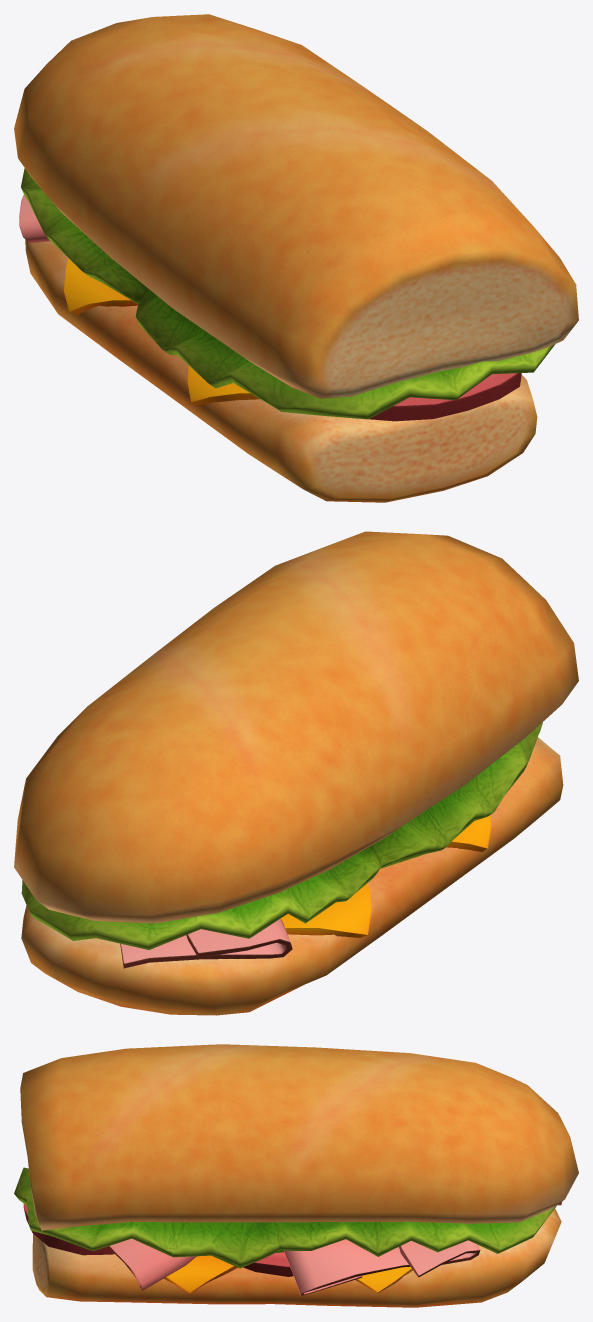
Rendered from SubmarineSandwich.fbx.
3 views of the same model, one above another, from view 1: azimuth 30°, elevation 25°; view 2: azimuth 150°, elevation 25°; view 3: azimuth 270°, elevation 25° (orthographic). The views are drawn at different scales.
Visible parts, largest first — view 1: SubmarineSandwich; view 2: SubmarineSandwich; view 3: SubmarineSandwich.
Part boxes in pixels (bbox=[...]): SubmarineSandwich: bbox=[14, 14, 578, 502]; SubmarineSandwich: bbox=[14, 531, 578, 1015]; SubmarineSandwich: bbox=[14, 1044, 578, 1307].
Bounding box in the file's own units: 48.56 × 40.3 × 95.5.
